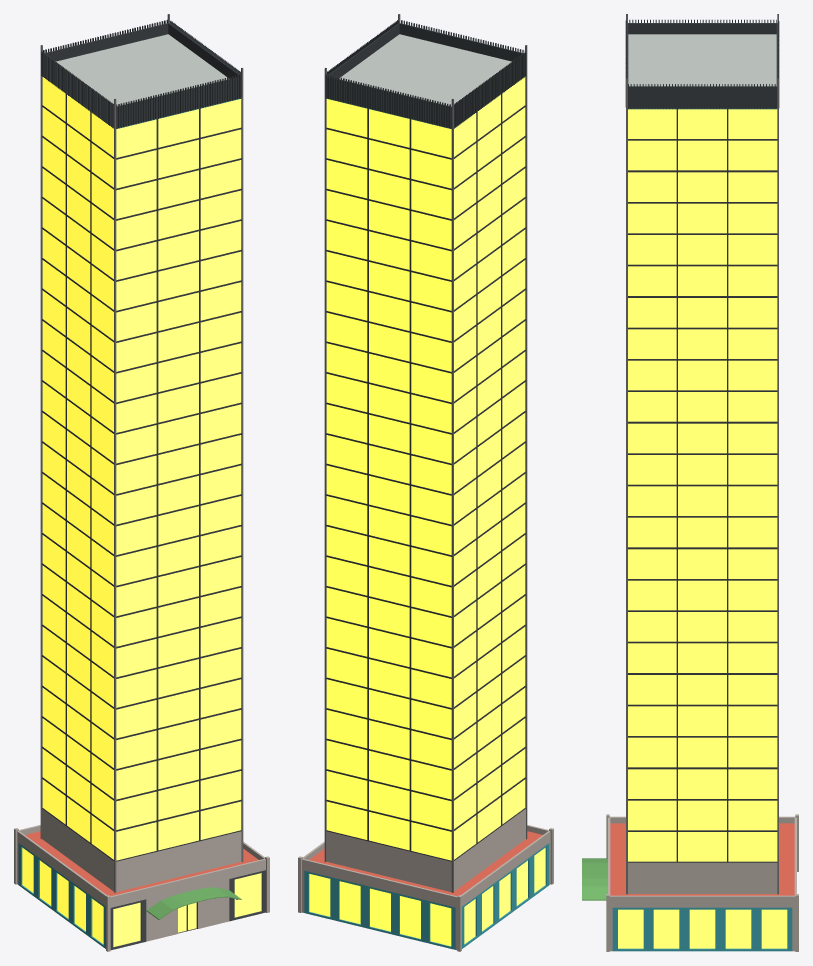
File: SM_infrastructure_buildings_05.glb
3 views of the same model, side by side, from view 1: azimuth 30°, elevation 25°; view 2: azimuth 150°, elevation 25°; view 3: azimuth 270°, elevation 25° (orthographic). The views are drawn at different scales.
Visible parts, largest first — view 1: SM_infrastructure_buildings_05; view 2: SM_infrastructure_buildings_05; view 3: SM_infrastructure_buildings_05.
Boxes of the visible parts, box(x1,y1,x2,y2) form: SM_infrastructure_buildings_05: box(14, 14, 269, 951); SM_infrastructure_buildings_05: box(298, 14, 553, 951); SM_infrastructure_buildings_05: box(582, 14, 798, 951).
Size of the model in its own units: 8.8 by 43.61 by 9.9.
Materials: 2 (1 with a texture image).
